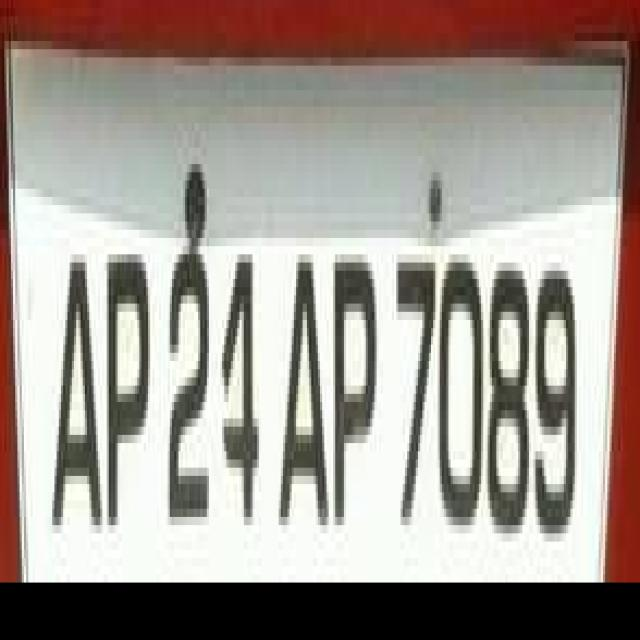plate: (30, 90, 638, 616)
